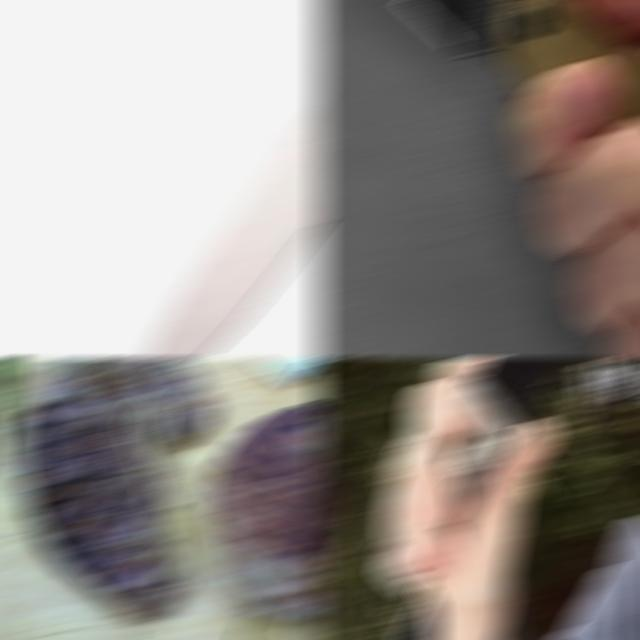Knife: (140, 101, 326, 357), (332, 1, 622, 132), (445, 359, 568, 531)
Knife_Handle: (323, 1, 640, 357), (117, 1, 326, 357)
